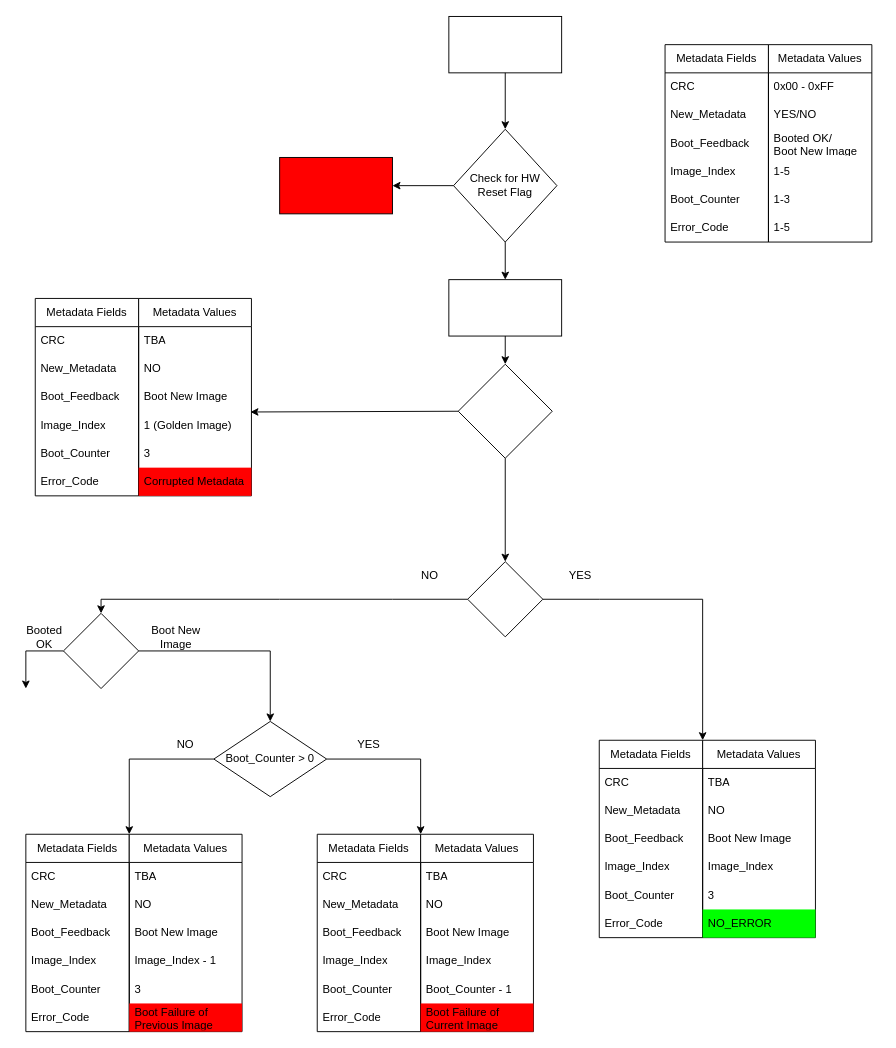
Some shapes in this 896 by 1048 pixel diagram are drawn without their labels. Each missing label, with the centre of its shape:
Boot Feedback: [101,650]
Bootloader Start (MCU Power On, HW Reset, SW Reset): [505,44]
Check Valid CRC: [504,410]
New Meatadata: [505,599]
Previous Image generated a hardware reset. Boot Golden Image: [335,185]
Read FRAM Metadata: [505,307]
